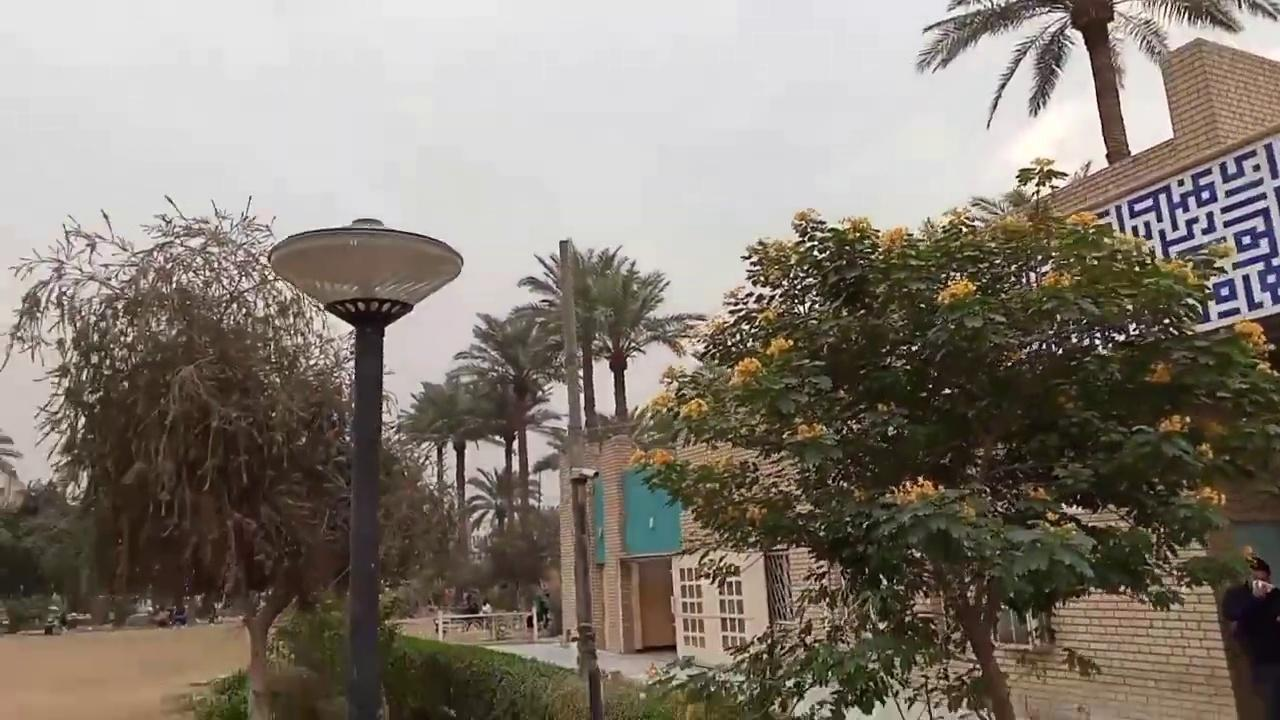person: (1221, 556, 1279, 719), (538, 592, 551, 630), (480, 599, 492, 629), (59, 610, 68, 633)
tree: (625, 156, 1278, 718), (2, 192, 428, 717), (511, 239, 698, 653), (914, 0, 1278, 165), (444, 310, 567, 611), (515, 240, 700, 426), (397, 377, 486, 607), (582, 255, 673, 422), (463, 464, 552, 611)
